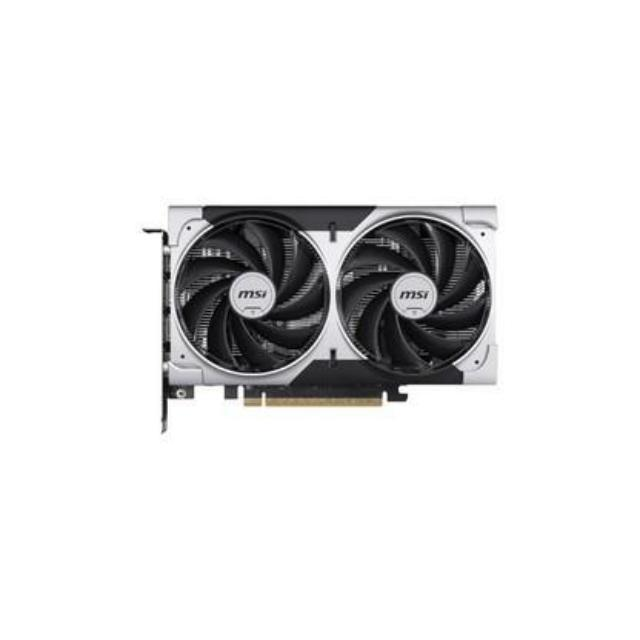GPU: (152, 198, 504, 416)
